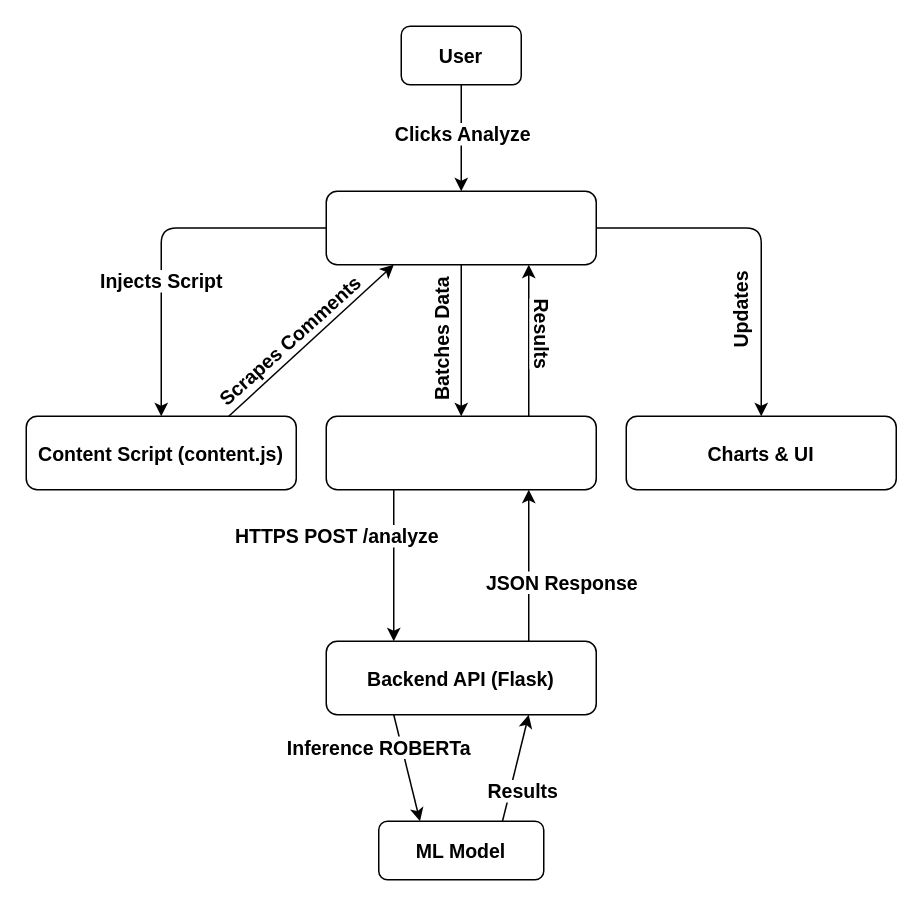
The diagram is 923 pixels wide and 906 high, and some of its shapes have lost their labels. Here are the shapes that lost their labels. From the top down, the centre of each, then its label:
At point 460,227: "Popup UI (popup.html)".
At point 460,452: "Background Service Worker".
